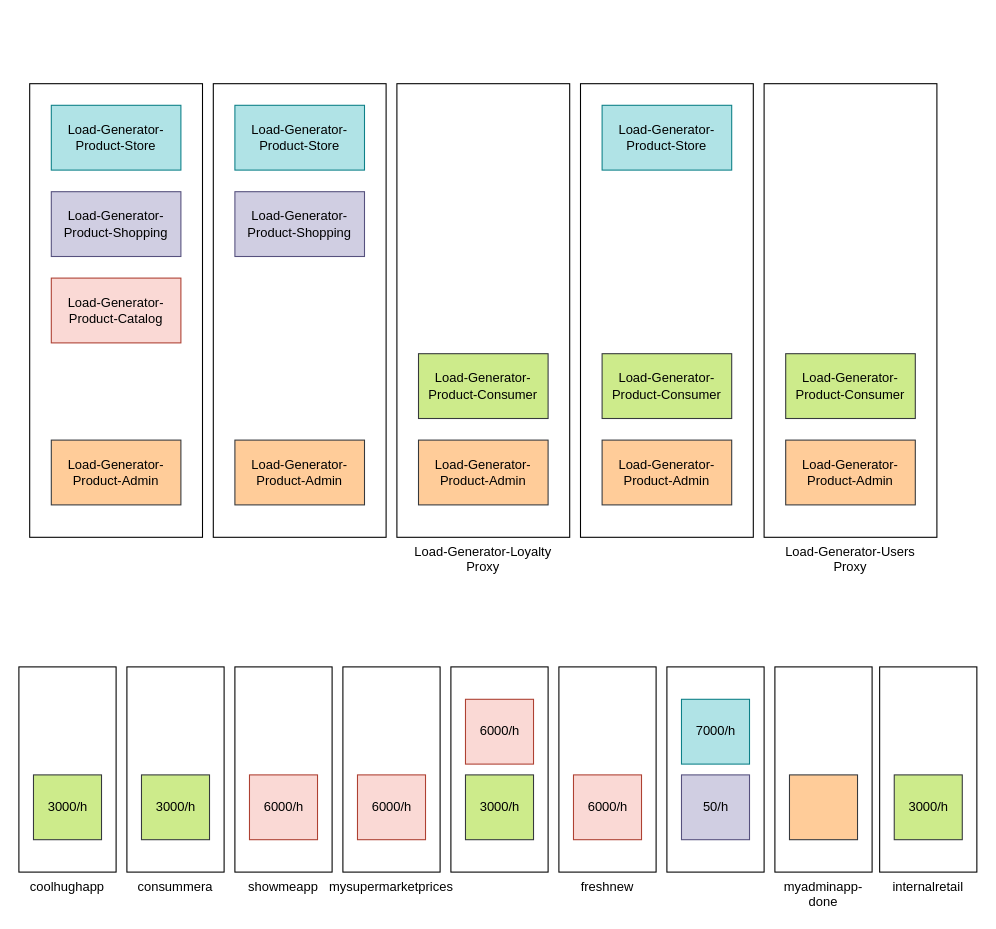
The diagram is 996 pixels wide and 929 high, and some of its shapes have lost their labels. The box of each missing label's shape, as (x1, y1, x2, y2) in pixels:
1000/h: (788, 774, 858, 840)
Load-Generator-Catalog Proxy: (29, 83, 202, 537)
Load-Generator-Checkout Proxy: (212, 83, 386, 537)
Load-Generator-Recommendation Proxy: (579, 83, 753, 537)
mystoreaggregator: (666, 666, 764, 872)
thegreatprice: (450, 666, 548, 872)
